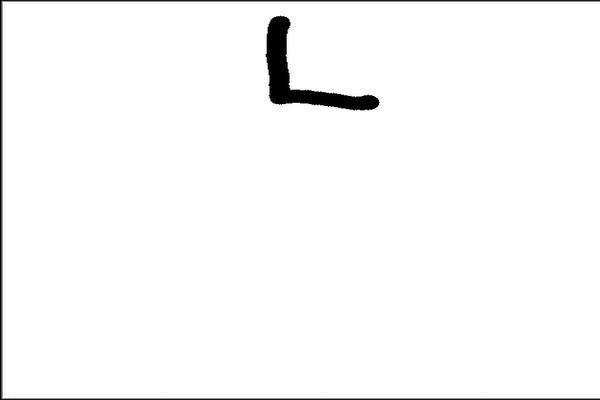L: (256, 8, 392, 115)
